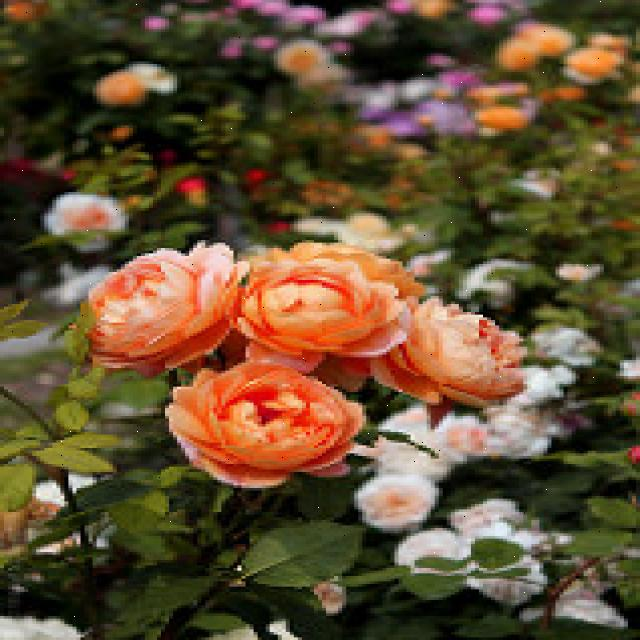Unbloomed: (161, 357, 362, 488)
